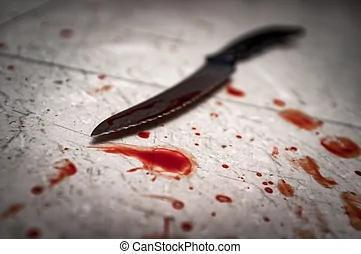Fire: (88, 143, 198, 181), (89, 143, 198, 180), (291, 156, 339, 188), (292, 156, 339, 188), (279, 108, 325, 130), (321, 136, 361, 158), (49, 159, 77, 188), (49, 160, 77, 186), (342, 192, 361, 230), (144, 216, 175, 238), (144, 195, 185, 210), (147, 196, 185, 210), (263, 180, 294, 197), (0, 204, 23, 220), (280, 180, 295, 197), (280, 180, 294, 197), (88, 85, 112, 94), (215, 194, 233, 204), (227, 86, 245, 96), (26, 229, 41, 239), (264, 181, 274, 194), (216, 196, 232, 203), (32, 186, 44, 194), (274, 100, 286, 108), (182, 223, 192, 232), (172, 201, 182, 210), (272, 147, 280, 158), (138, 132, 150, 138), (286, 146, 298, 152), (194, 126, 201, 136), (97, 74, 107, 80), (211, 211, 217, 218), (194, 140, 200, 146), (256, 172, 263, 177), (274, 149, 279, 156), (7, 65, 14, 70), (211, 114, 219, 118), (268, 189, 274, 194), (152, 150, 157, 156), (236, 135, 242, 140), (127, 168, 134, 172), (222, 164, 229, 168), (189, 185, 194, 190), (250, 137, 255, 142), (356, 171, 361, 176), (174, 176, 180, 180), (285, 188, 289, 194), (153, 158, 158, 162), (298, 213, 302, 218), (292, 190, 295, 196), (107, 147, 110, 152), (243, 177, 246, 182), (118, 148, 123, 151), (152, 177, 156, 180)
